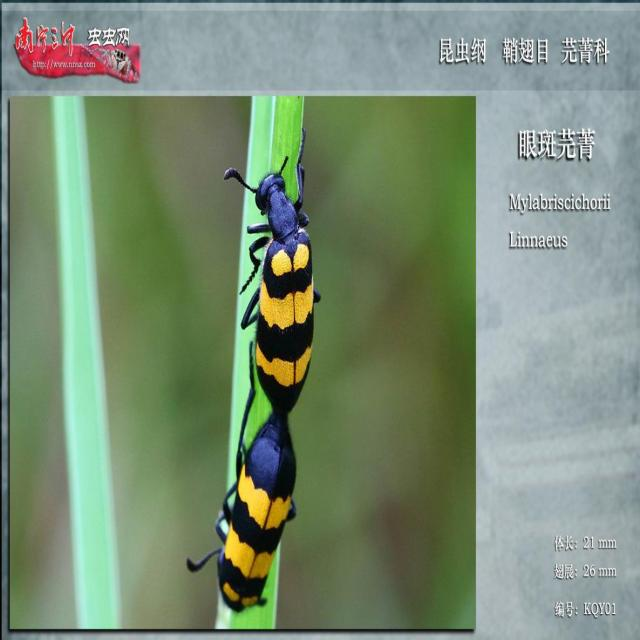BlisterBeetle-Adult-: (220, 124, 334, 421), (190, 404, 311, 615)
